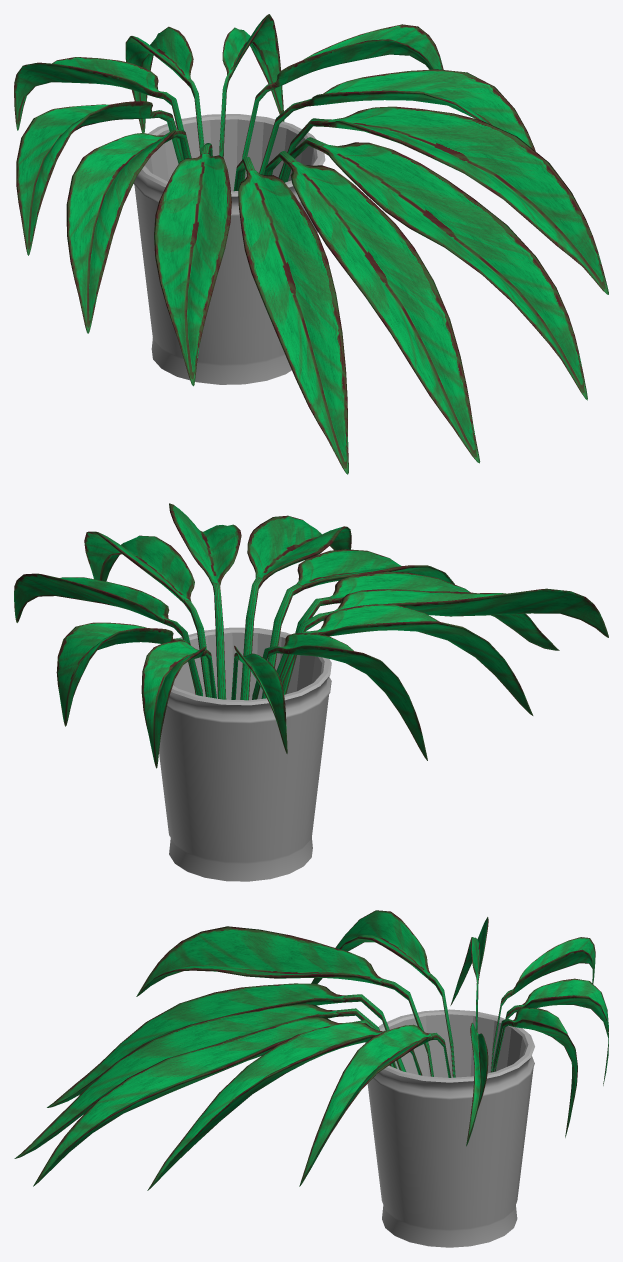
File: pot_2.fbx
3 views of the same model, one above another, from view 1: azimuth 30°, elevation 25°; view 2: azimuth 150°, elevation 25°; view 3: azimuth 270°, elevation 25° (orthographic). The views are drawn at different scales.
Parts seen in each view (by area): view 1: pasted__pasted__group23_pasted__group11_pasted__pasted__grou, pasted__pCylinder2; view 2: pasted__pasted__group23_pasted__group11_pasted__pasted__grou, pasted__pCylinder2; view 3: pasted__pasted__group23_pasted__group11_pasted__pasted__grou, pasted__pCylinder2.
Boxes of the visible parts, <box> form: pasted__pasted__group23_pasted__group11_pasted__pasted__grou: <box>14,14,608,474</box>; pasted__pCylinder2: <box>133,114,325,384</box>; pasted__pasted__group23_pasted__group11_pasted__pasted__grou: <box>14,503,608,768</box>; pasted__pCylinder2: <box>159,627,331,881</box>; pasted__pasted__group23_pasted__group11_pasted__pasted__grou: <box>14,910,608,1190</box>; pasted__pCylinder2: <box>365,1009,534,1247</box>.
Size of the model in its own units: 13.75 by 7.53 by 17.43.
